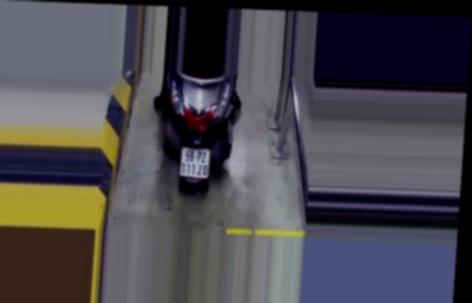License_Plate: (178, 144, 214, 180)
